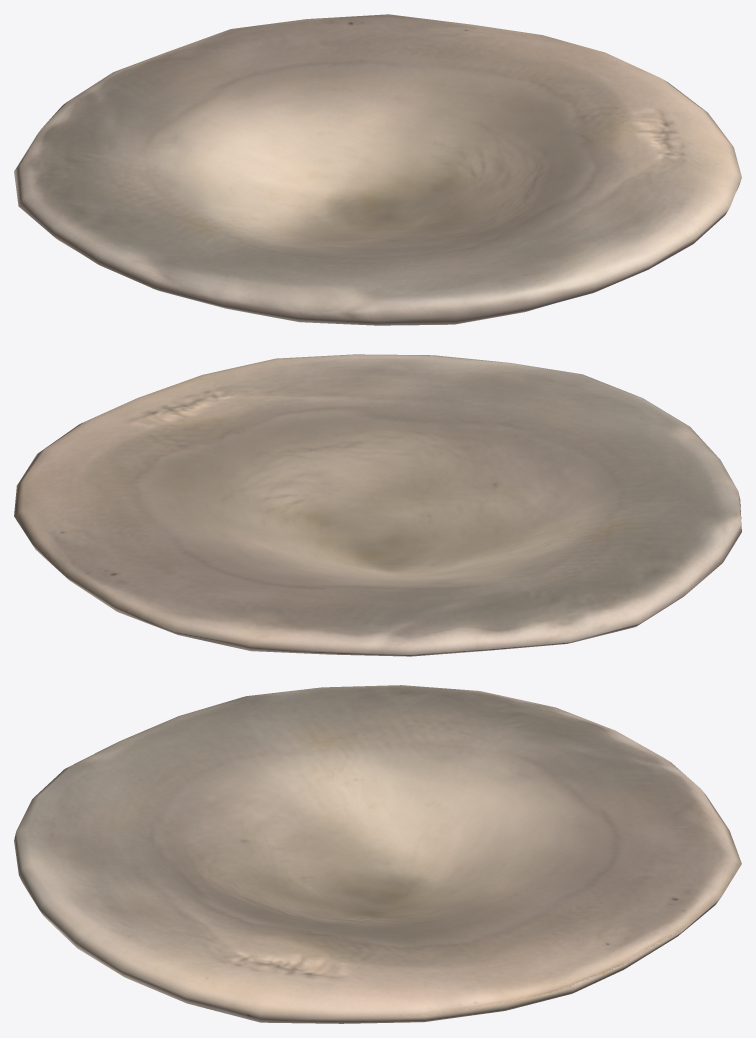
3 views of the same model, one above another, from view 1: azimuth 30°, elevation 25°; view 2: azimuth 150°, elevation 25°; view 3: azimuth 270°, elevation 25° (orthographic). The views are drawn at different scales.
Parts seen in each view (by area): view 1: 202; view 2: 202; view 3: 202.
Part boxes in pixels (left/top/right/bottom): 202: left=14, top=14, right=741, bottom=325; 202: left=14, top=354, right=741, bottom=656; 202: left=14, top=685, right=741, bottom=1023.
Size of the model in its own units: 124 by 121 by 15.77.
Materials: 1 (1 with a texture image).
